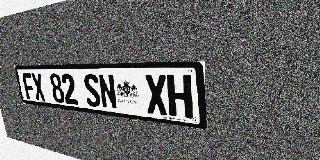2: (60, 74, 78, 105)
8: (49, 73, 65, 103)
F: (22, 73, 36, 100)
H: (166, 74, 193, 119)
N: (97, 74, 118, 110)
S: (82, 74, 102, 108)
X: (144, 74, 169, 116), (31, 73, 46, 101)
